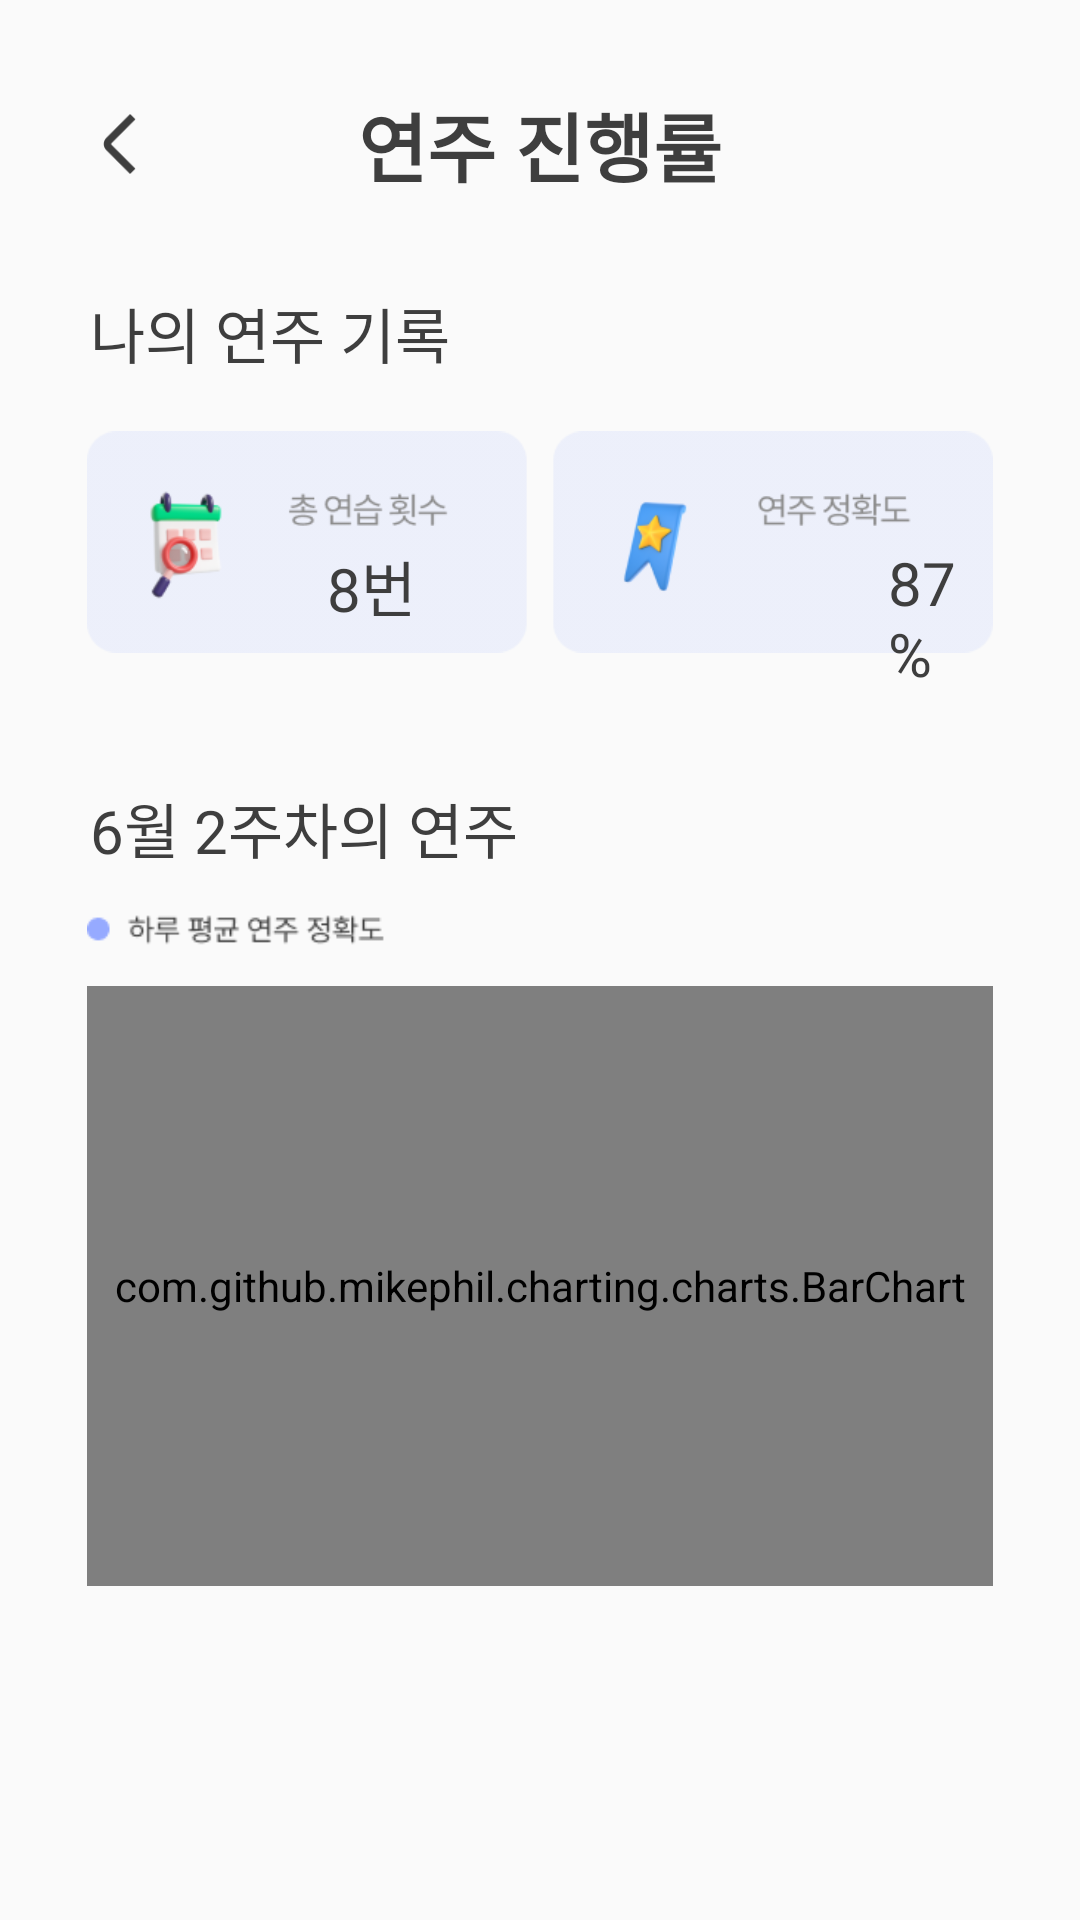

Icons on this 1080×1920 Android screen, each with its box as bbox=[x1, y1, x2, y2]:
back: bbox=[103, 114, 135, 174]
